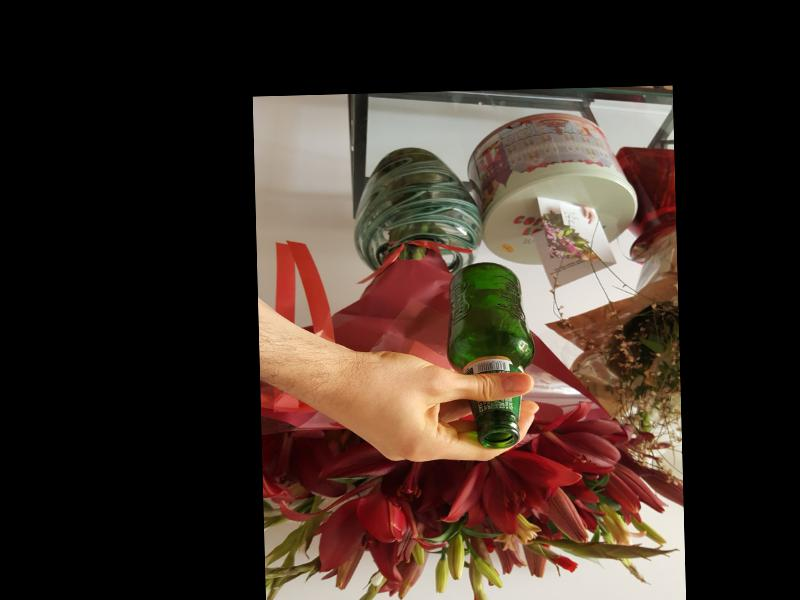Beer: (448, 260, 536, 448)
